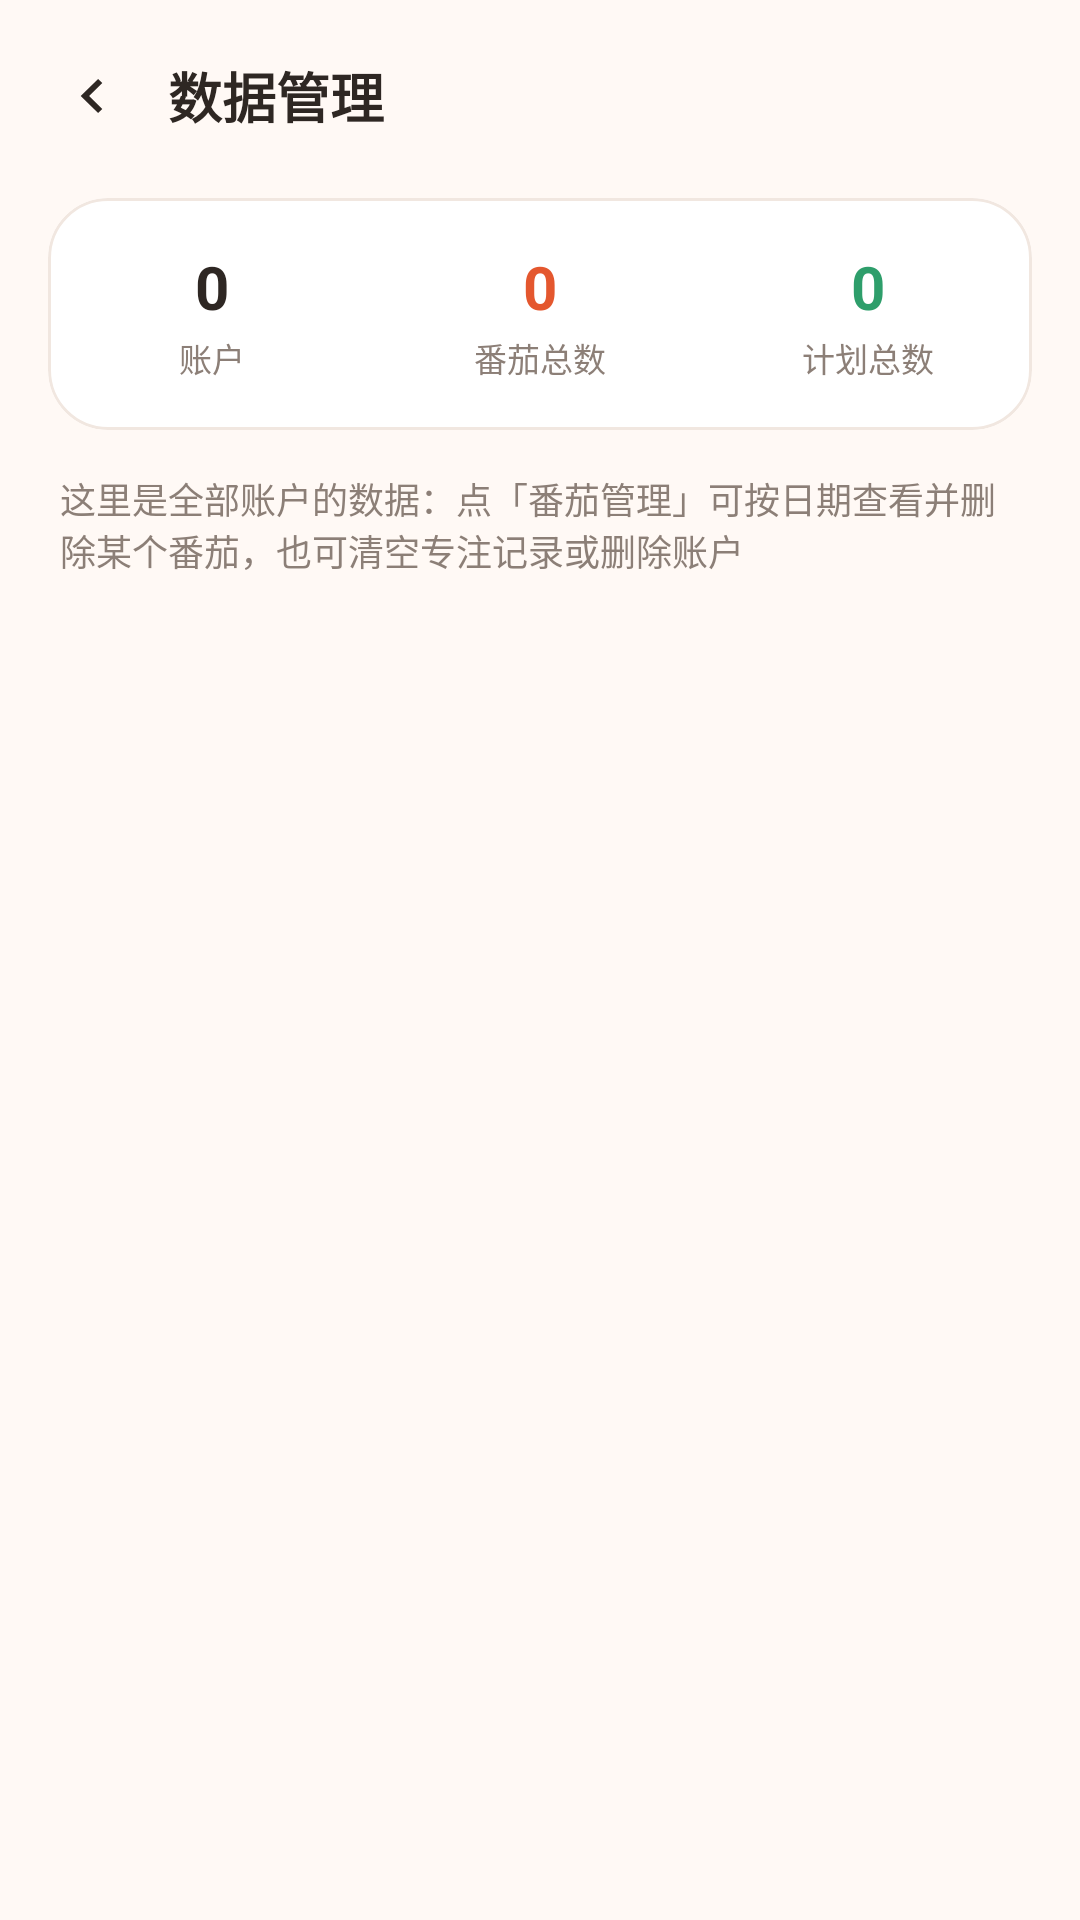

Named icons in this screenshot (1080px x 1920px) and their bounding boxes, (x1, y1, x2, y2):
返回: (81, 79, 102, 113)
